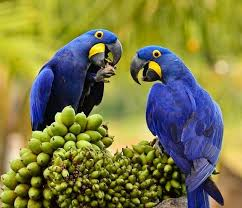guacamaya: (129, 44, 229, 208), (25, 26, 123, 134)
